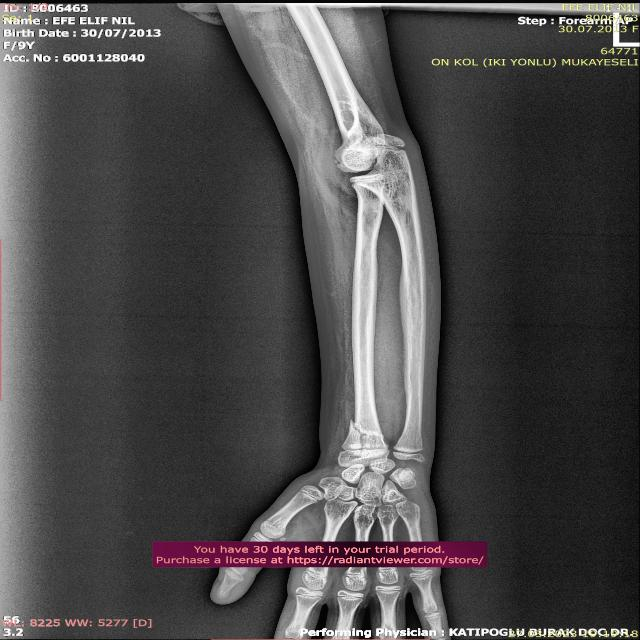Fracture: (345, 417, 388, 440)
